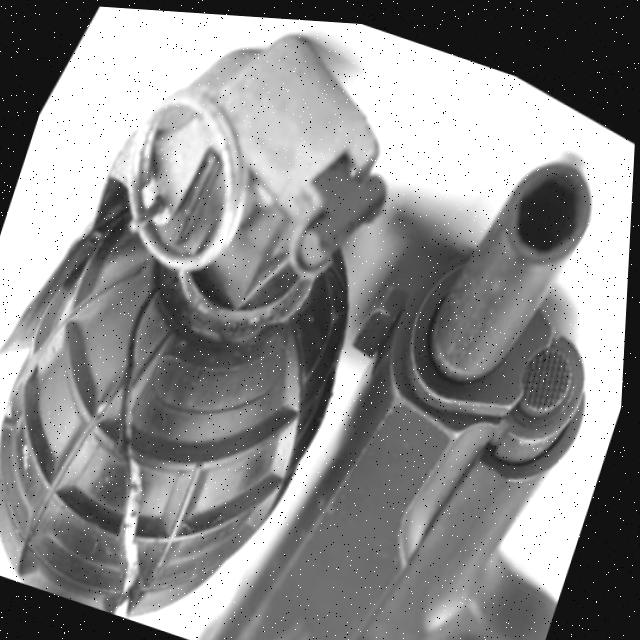grenade: (0, 0, 517, 640)
